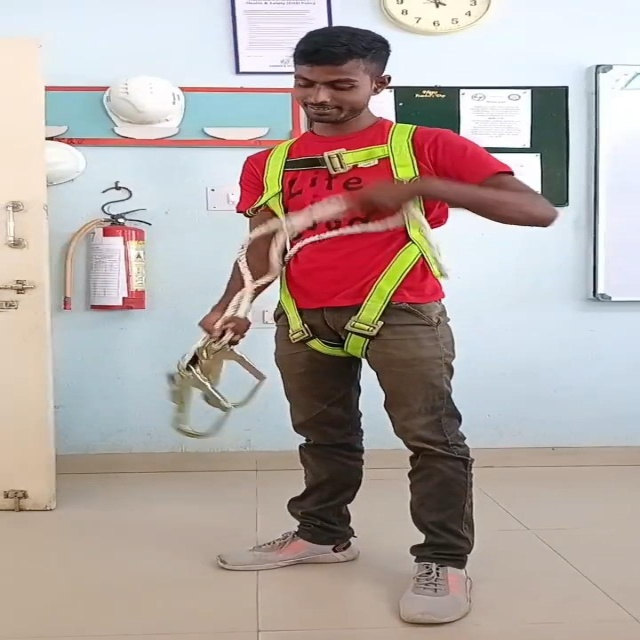Arnes_seguridad: (257, 122, 462, 366)
